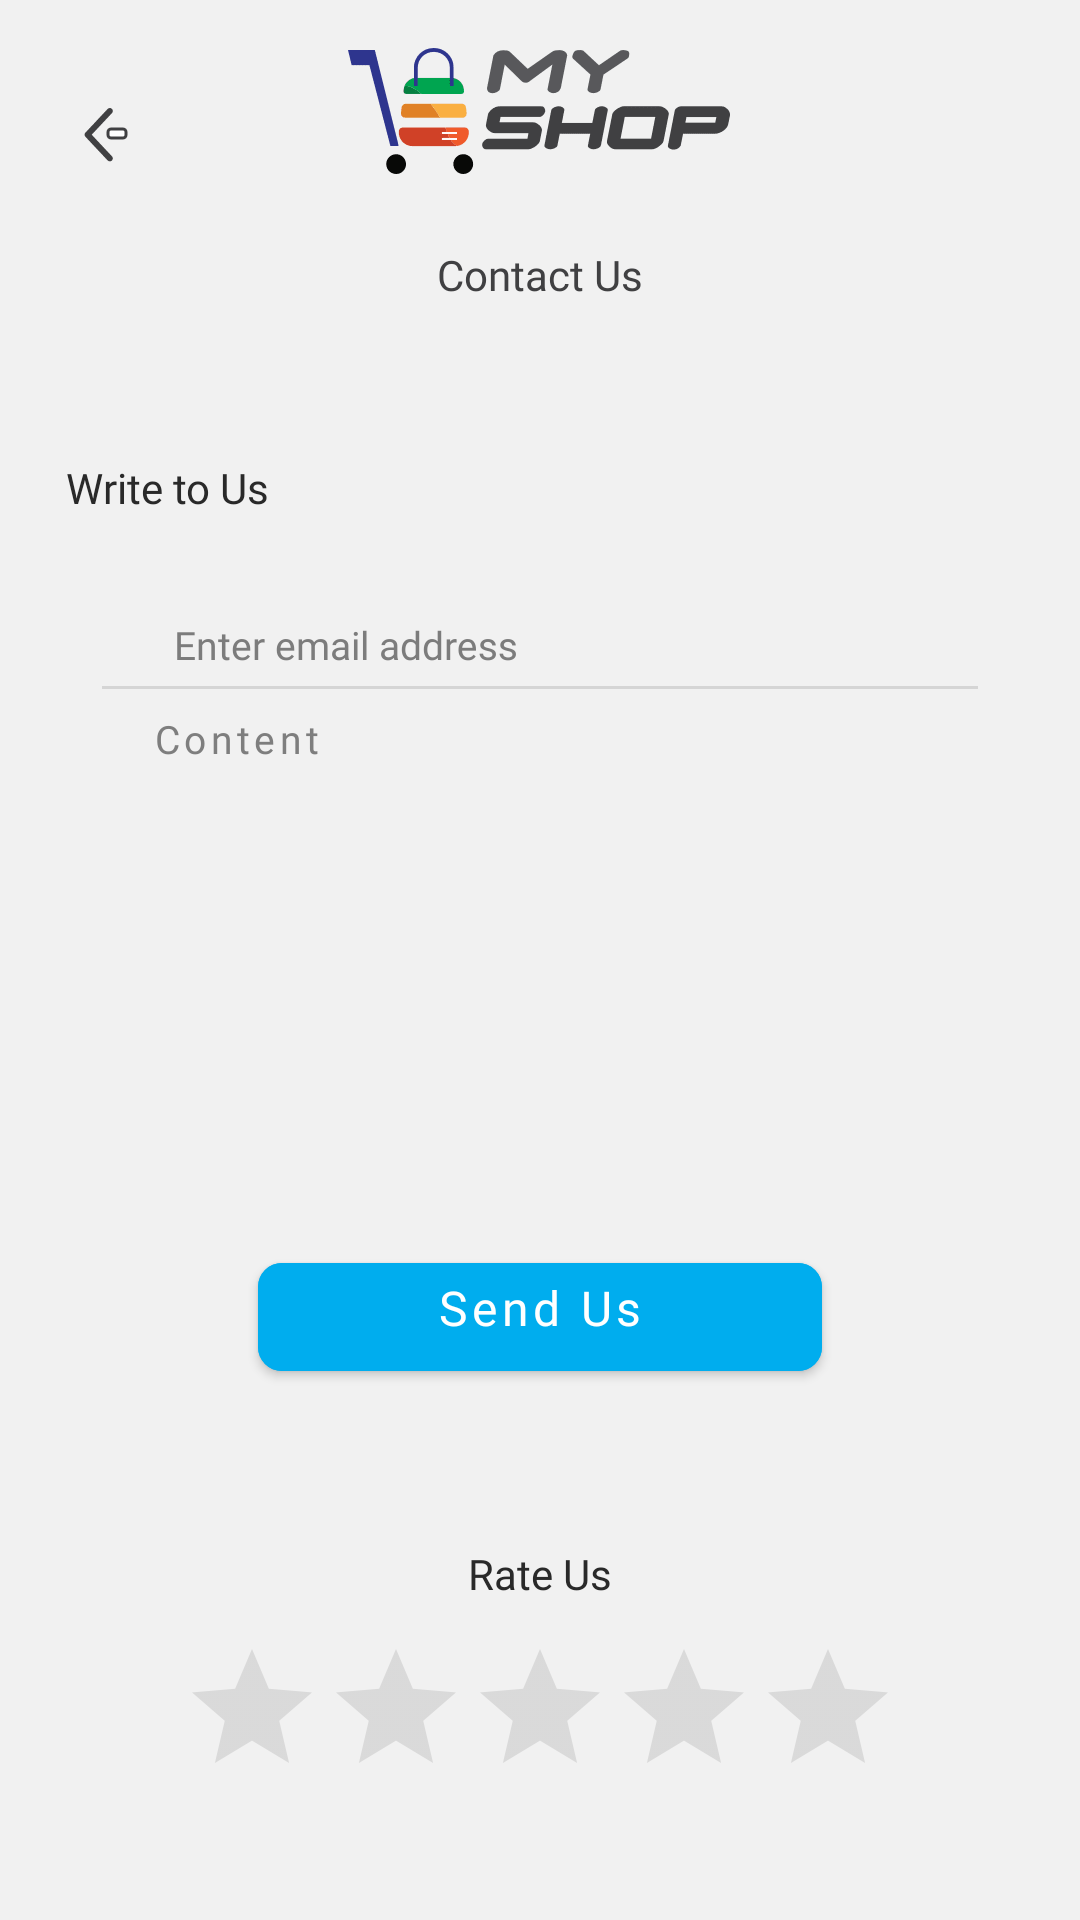

Icons on this 1080x1920 Android screen, each with its box as (x1=x1, y1=y1, x2=x2, y2=y2):
back arrow: (x1=84, y1=108, x2=128, y2=162)
